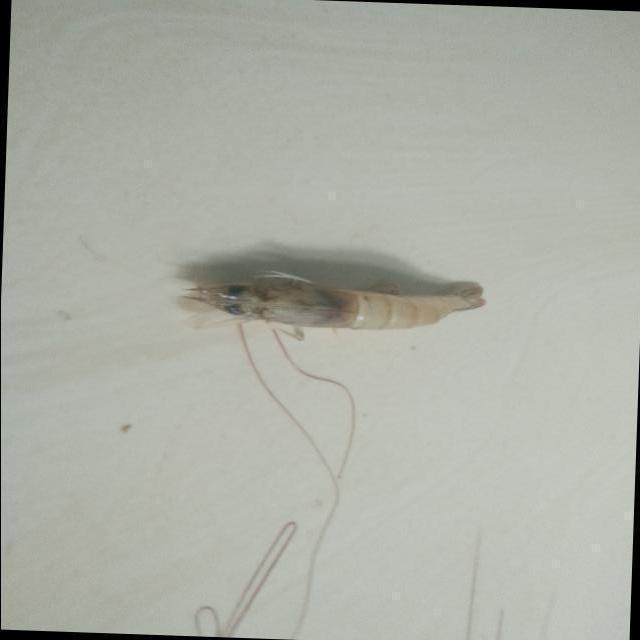shrimp: (173, 281, 486, 329)
